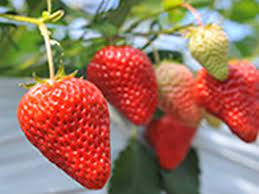ripe: (16, 77, 115, 192), (87, 37, 162, 129), (199, 50, 258, 146), (143, 100, 204, 182)
unripe: (150, 54, 204, 121), (187, 19, 231, 86)
